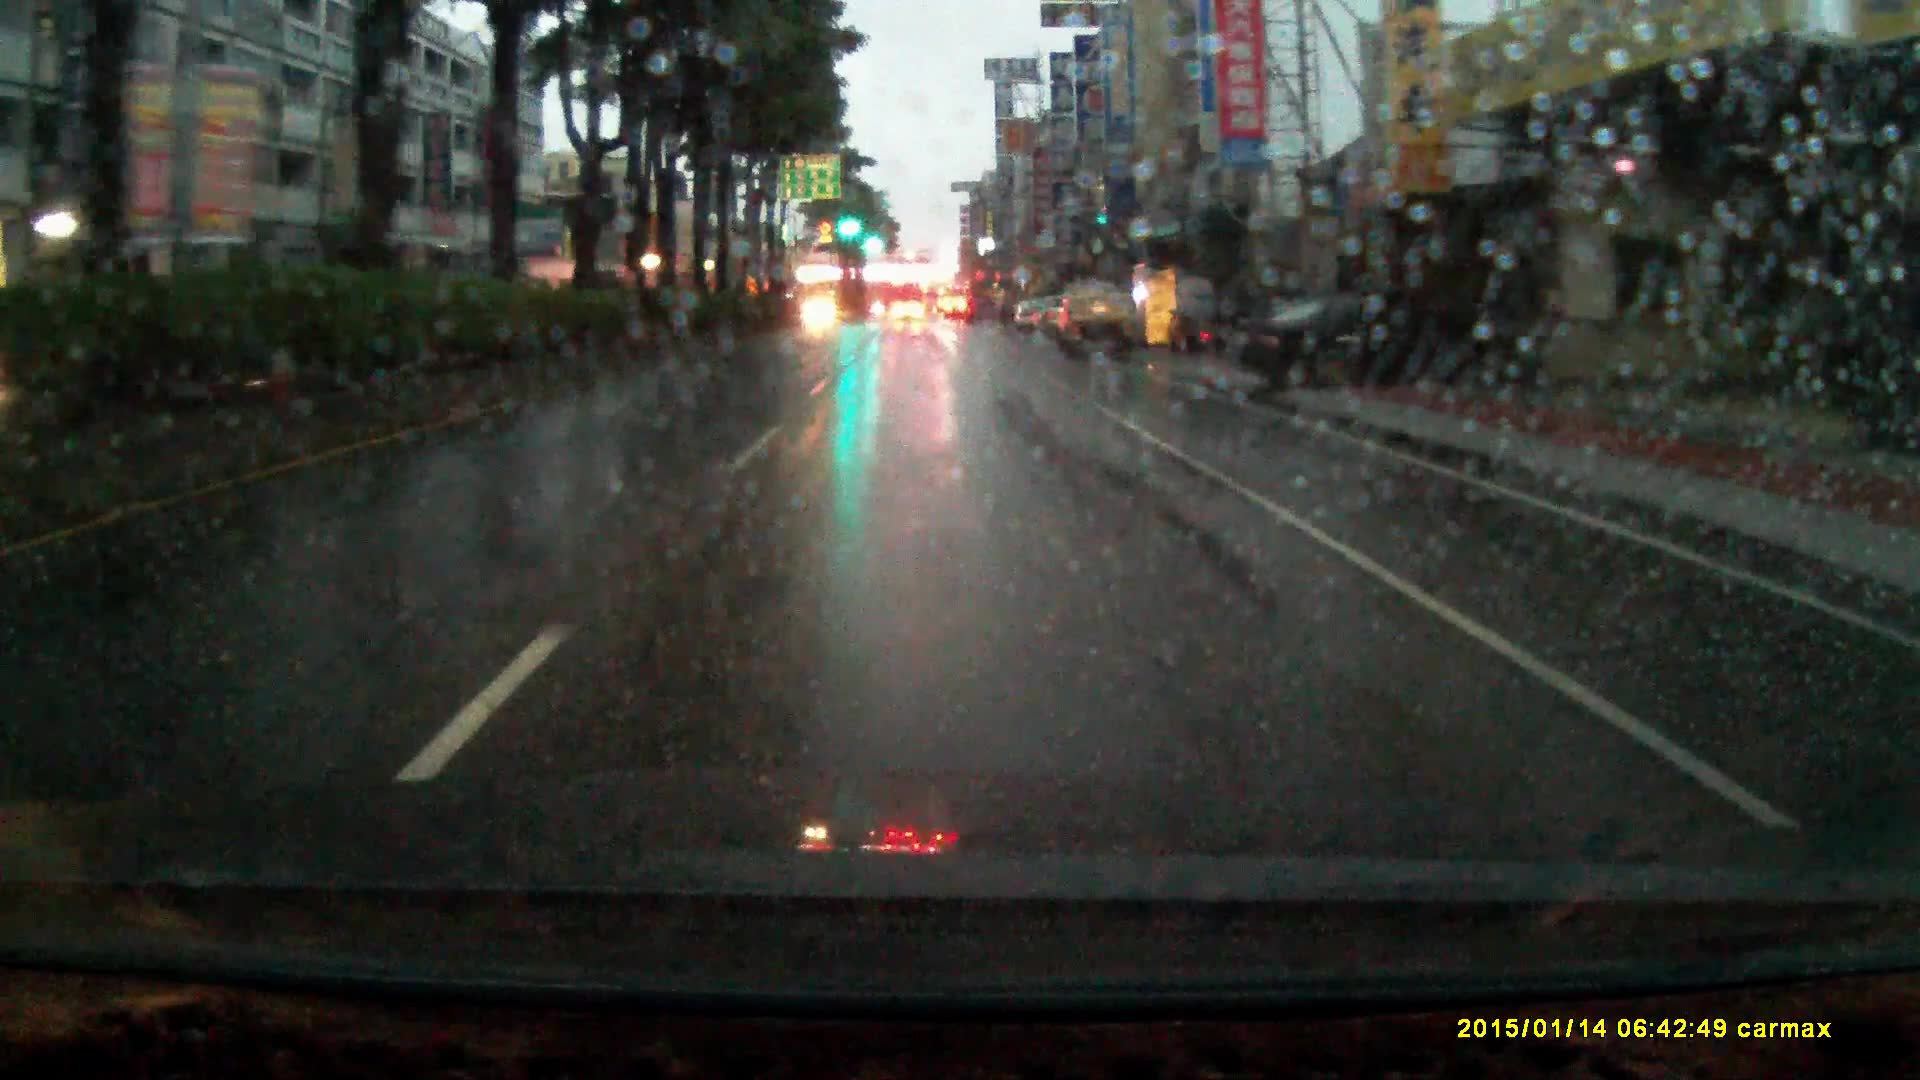vehicle: (1218, 298, 1531, 386), (1058, 281, 1133, 357), (1164, 295, 1250, 360), (800, 297, 841, 335), (890, 301, 927, 324), (924, 282, 945, 319)
